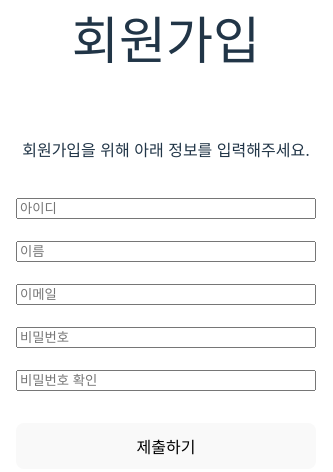
email field validation - invalid local part
Type "test#@example.com" into the field with placeholder "이메일" at x=166, y=295, box x1=16 y1=284 x2=316 y2=305
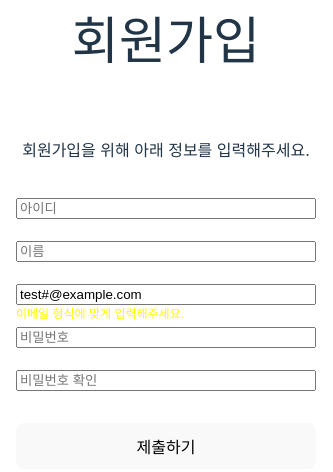
Check: the text "이메일 형식에 맞게 입력해주세요." is shown, box x1=16 y1=305 x2=184 y2=317
